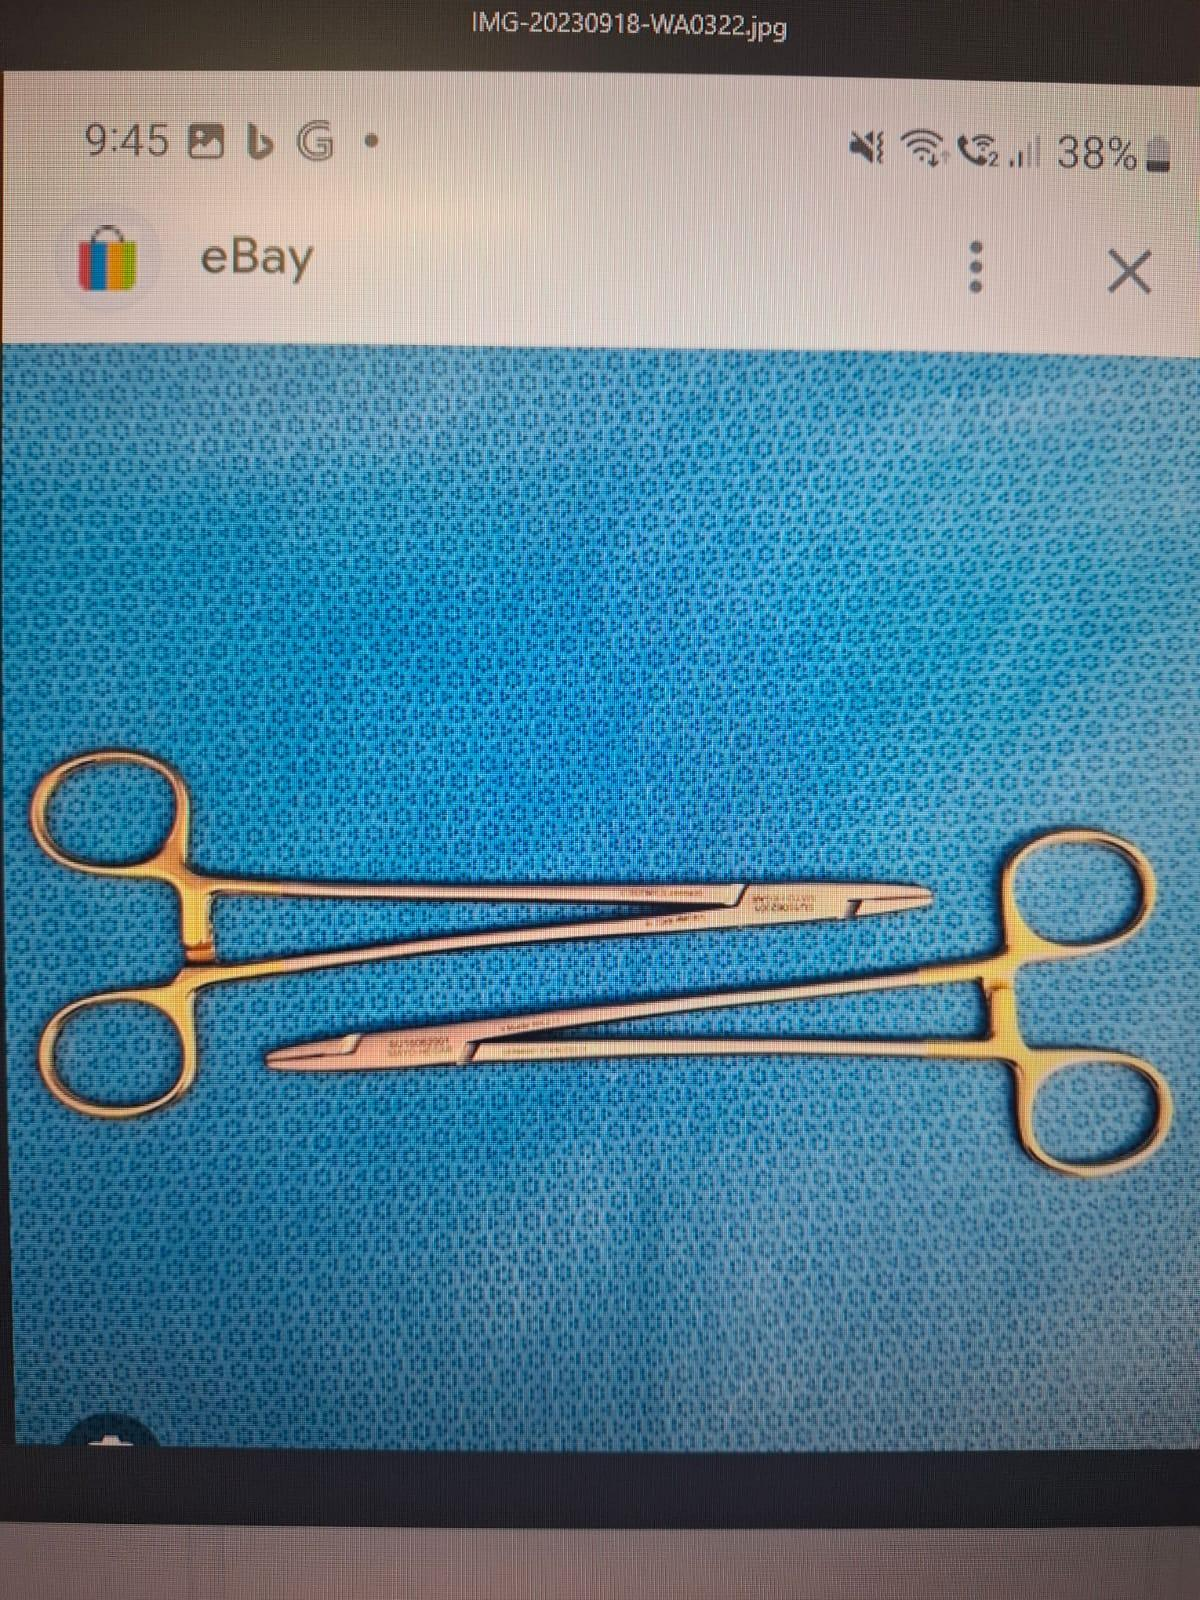Needle Holder: (18, 737, 940, 1148), (242, 820, 1172, 1191)
